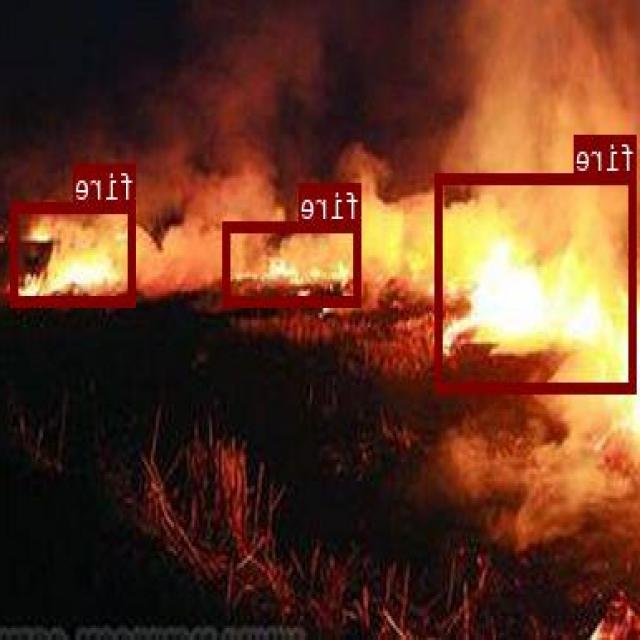fire: (436, 173, 638, 391), (12, 202, 136, 303), (225, 220, 362, 304)
